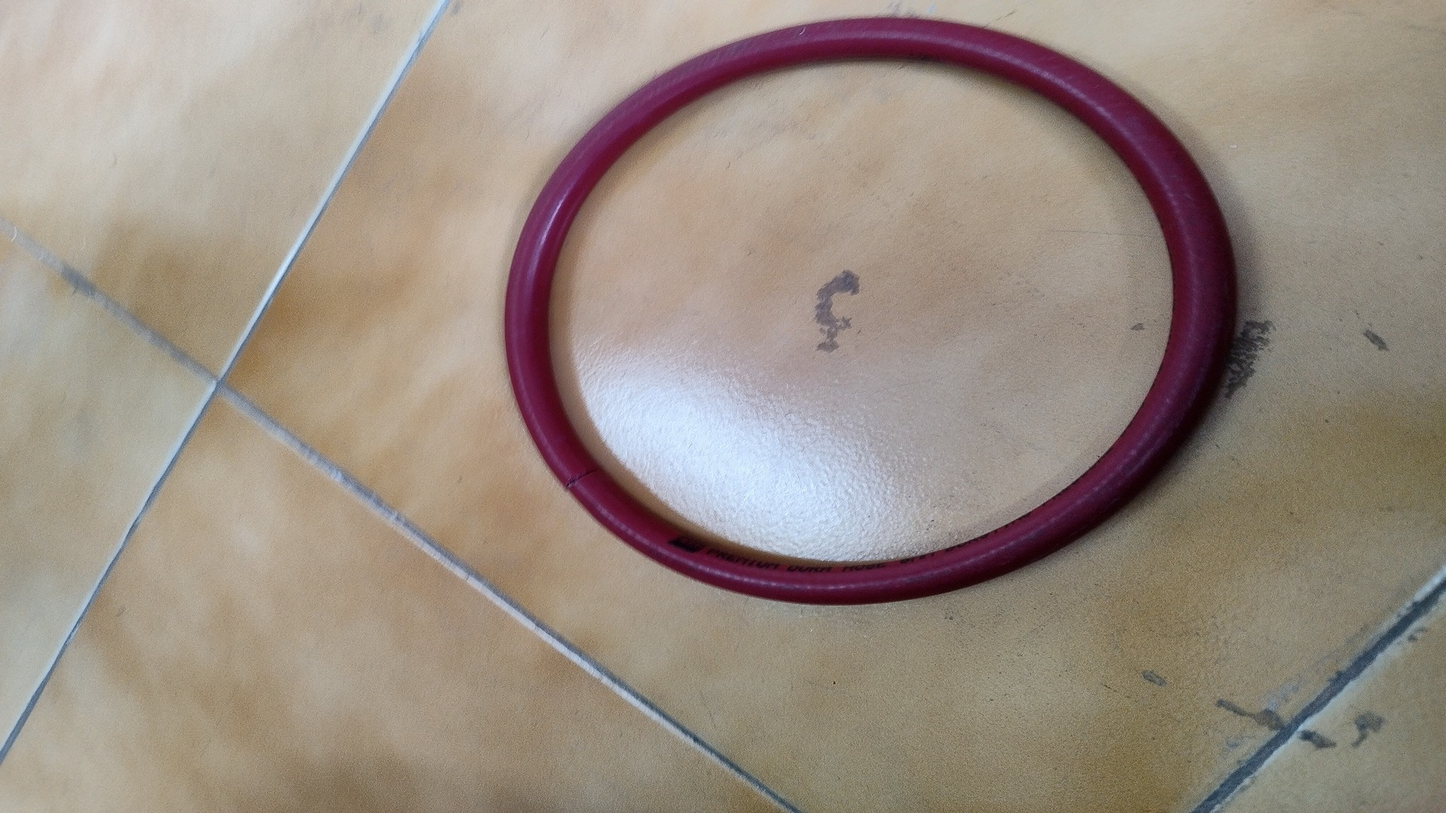Red ring: (508, 17, 1232, 605)
